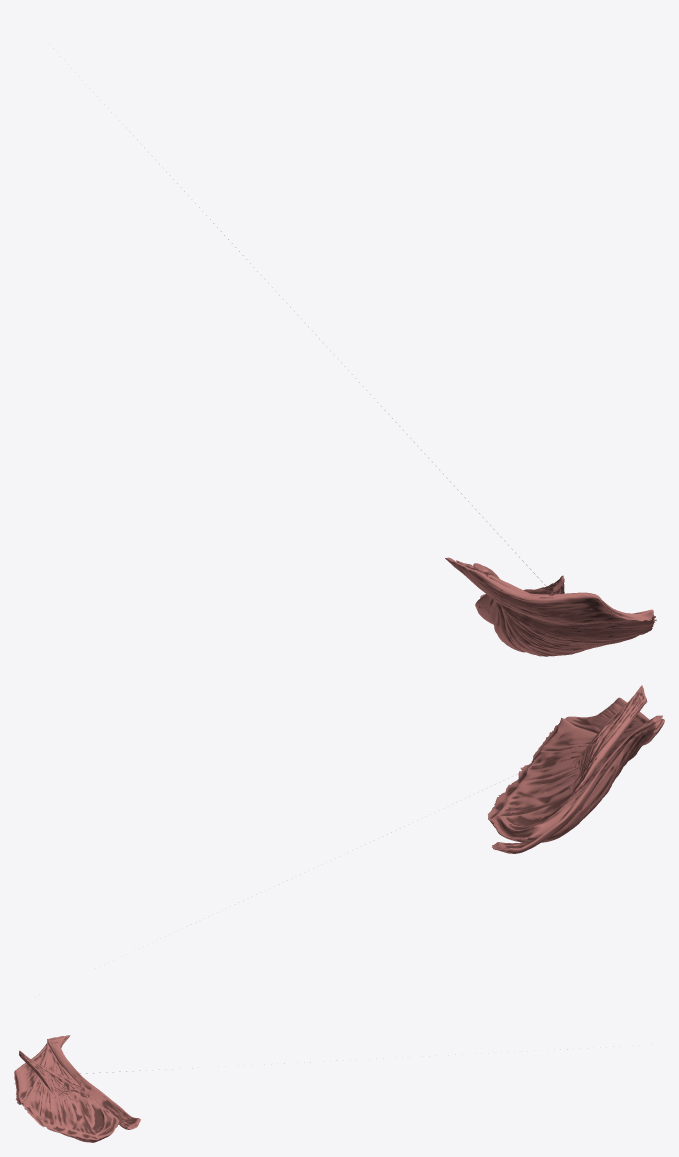
Rendered from pectoralis.2fbe491dae.glb.
The picture shows the model from 3 angles, top to bottom: view 1: azimuth 30°, elevation 25°; view 2: azimuth 150°, elevation 25°; view 3: azimuth 270°, elevation 25°; orthographic projection. The views are drawn at different scales.
Parts seen in each view (by area): view 1: FMA79979, FMA34690; view 2: FMA79979, FMA13375, FMA45874, FMA34690; view 3: FMA79979, FMA45874, FMA13375, FMA34690.
Part boxes in pixels (x1,y1,x2,y2): FMA79979: [456, 560, 656, 656]; FMA34690: [445, 557, 653, 624]; FMA79979: [488, 718, 662, 842]; FMA13375: [191, 685, 647, 924]; FMA45874: [491, 715, 662, 853]; FMA34690: [564, 697, 664, 745]; FMA79979: [22, 1037, 119, 1142]; FMA45874: [47, 1038, 140, 1129]; FMA13375: [19, 1046, 613, 1101]; FMA34690: [14, 1035, 70, 1104].
Size of the model in its own units: 190 by 203 by 1172.
